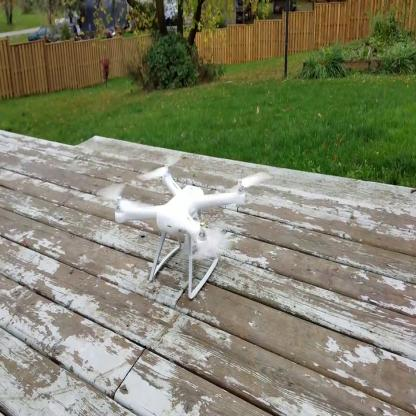drone: (97, 147, 270, 263)
